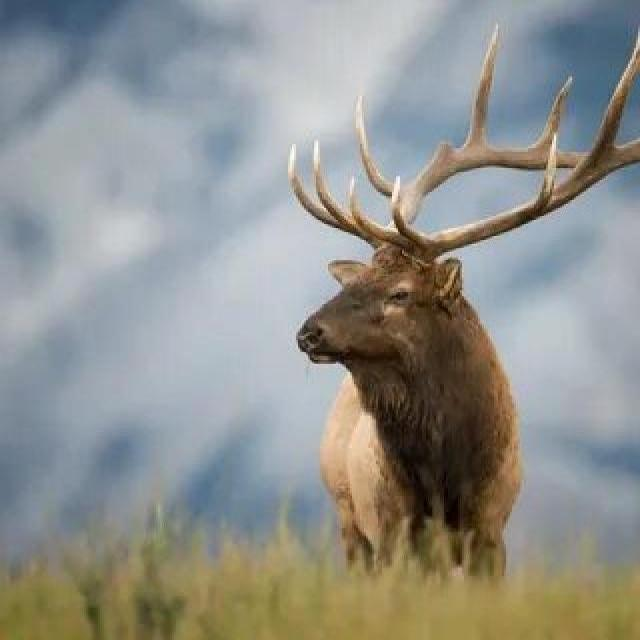deer: (270, 24, 640, 581)
